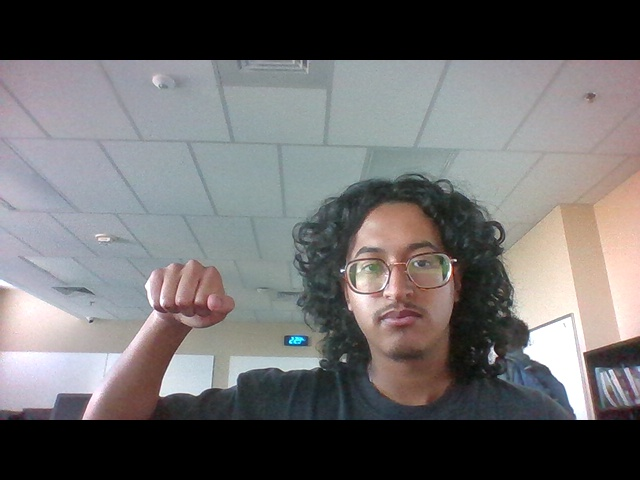yes: (138, 250, 249, 342)
